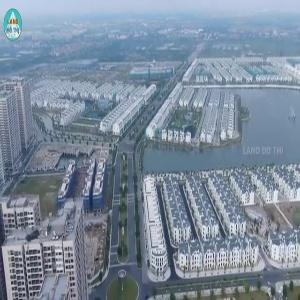drone: (8, 209, 56, 257)
